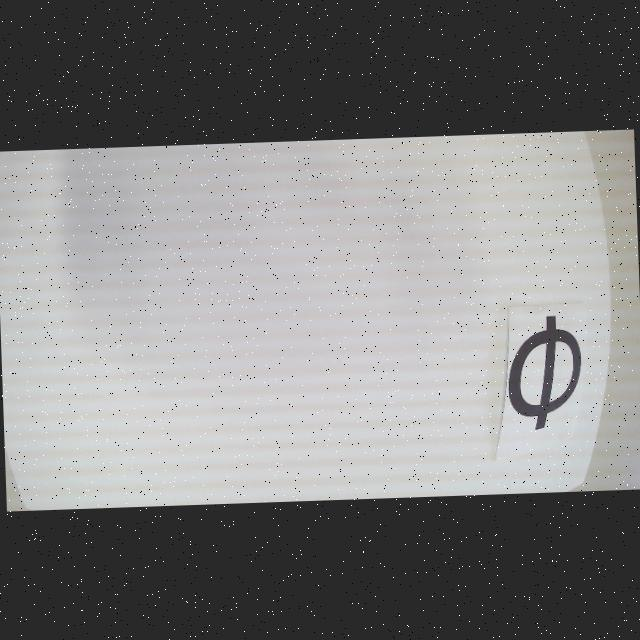PHI: (507, 314, 585, 430)
